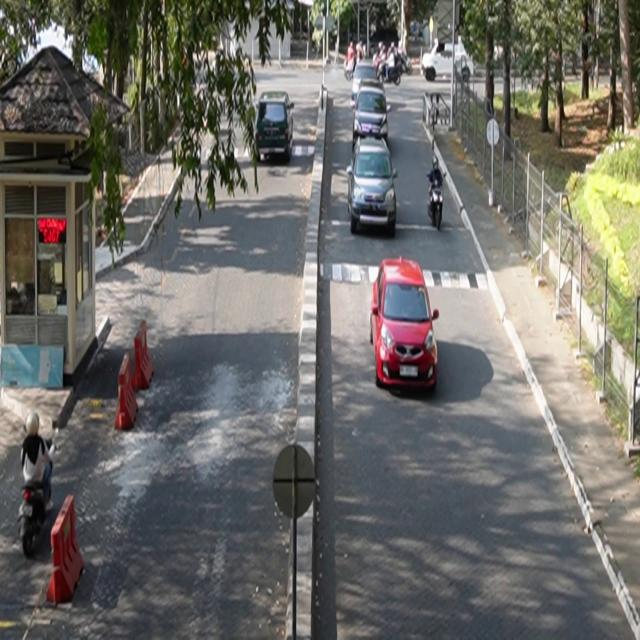car: (371, 257, 441, 392), (347, 136, 399, 237), (255, 91, 296, 163), (353, 88, 391, 152), (422, 41, 474, 83)
